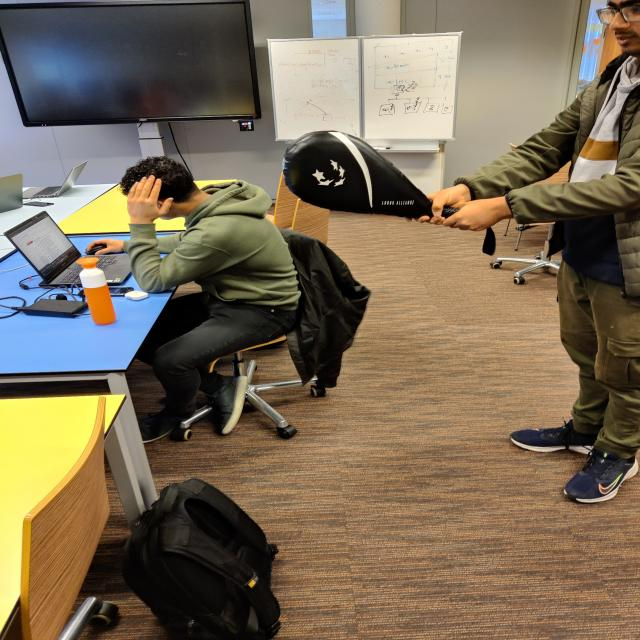paddle: (280, 128, 433, 220)
